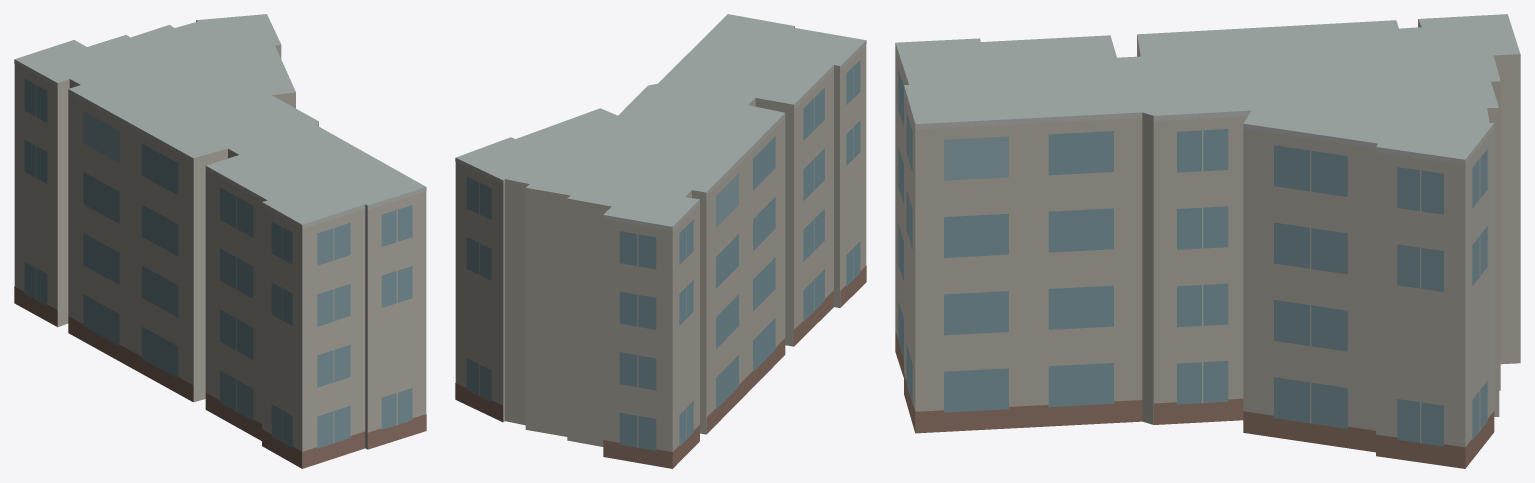
The model's file is survey-upis-32987776.glb.
The picture shows the model from 3 angles, left to right: view 1: azimuth 30°, elevation 25°; view 2: azimuth 150°, elevation 25°; view 3: azimuth 270°, elevation 25°; orthographic projection. The views are drawn at different scales.
Visible parts, largest first — view 1: survey-upis-32987776.tmp; view 2: survey-upis-32987776.tmp; view 3: survey-upis-32987776.tmp.
Part boxes in pixels (x1=…): survey-upis-32987776.tmp: x1=14, y1=14, x2=426, y2=468; survey-upis-32987776.tmp: x1=455, y1=14, x2=866, y2=468; survey-upis-32987776.tmp: x1=895, y1=14, x2=1520, y2=468.
Size of the model in its own units: 14.16 by 14 by 25.67.
